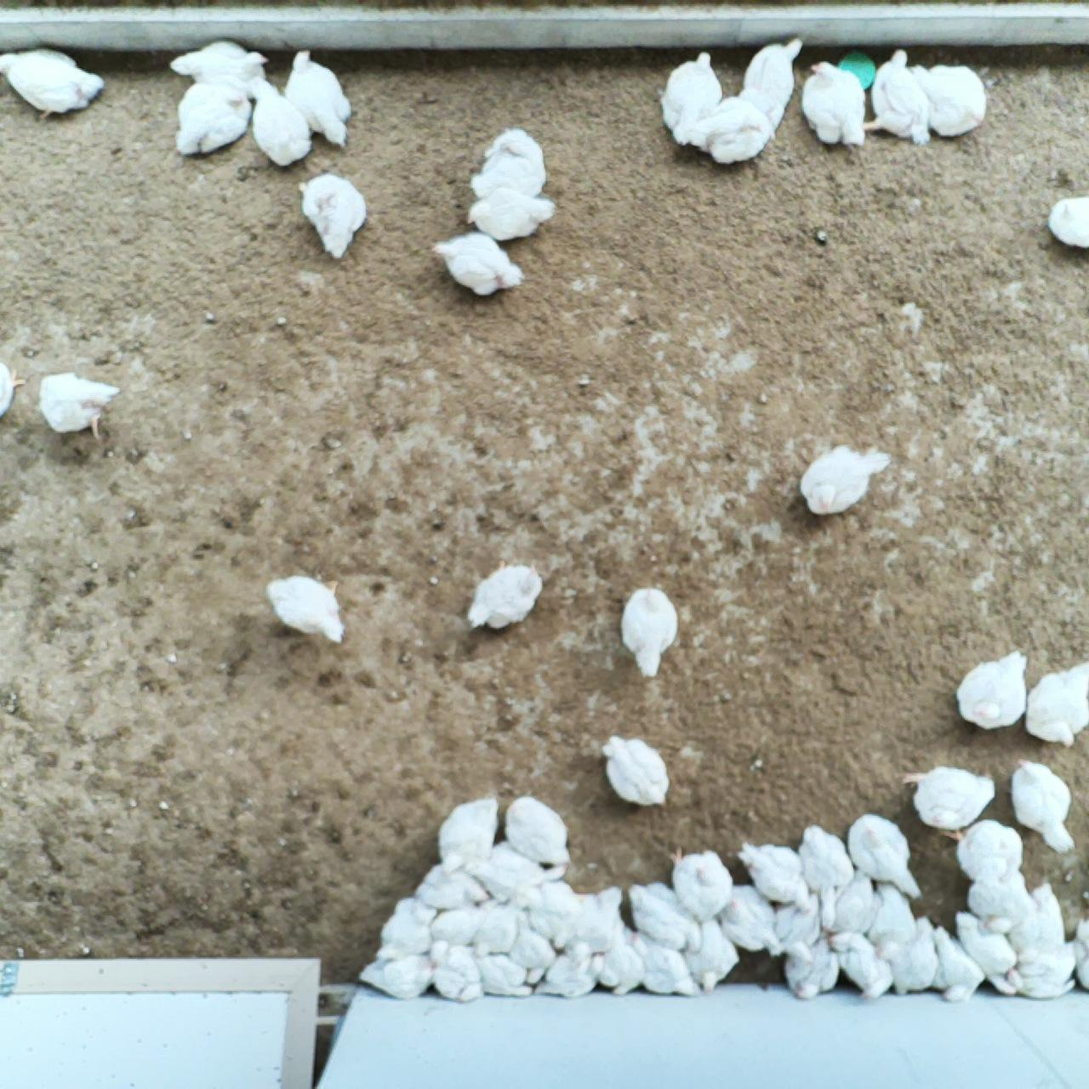chicken: (0, 43, 107, 125), (848, 808, 923, 905), (282, 47, 352, 149), (1008, 755, 1079, 855), (429, 227, 527, 299), (733, 35, 808, 129), (862, 48, 932, 148), (952, 647, 1033, 733), (241, 73, 313, 169), (901, 763, 999, 833), (465, 125, 551, 204), (798, 446, 892, 518), (687, 94, 778, 166), (658, 49, 724, 148), (36, 370, 124, 444), (618, 585, 684, 682), (911, 61, 990, 142), (166, 37, 269, 98), (464, 558, 550, 631), (944, 814, 1026, 890), (297, 170, 367, 259), (955, 909, 1025, 998), (793, 823, 851, 930), (261, 572, 349, 642), (624, 880, 704, 957), (802, 58, 867, 151), (1024, 655, 1089, 748), (731, 837, 809, 914), (476, 839, 567, 905), (599, 732, 672, 814), (176, 78, 251, 157), (434, 795, 504, 877), (465, 185, 559, 244), (625, 932, 706, 1000), (827, 920, 894, 1002), (501, 793, 574, 865), (1001, 940, 1082, 1004), (875, 914, 938, 996), (667, 844, 733, 922), (779, 930, 844, 1005), (929, 925, 989, 1005), (719, 885, 785, 956), (1009, 879, 1066, 961), (965, 866, 1032, 935), (501, 911, 565, 983), (867, 881, 919, 968), (678, 917, 739, 991), (532, 944, 609, 1001), (563, 882, 626, 951), (373, 895, 438, 961), (821, 865, 878, 940), (359, 948, 438, 1002), (529, 878, 582, 952), (772, 887, 824, 962), (589, 932, 644, 997), (429, 935, 483, 1000), (468, 950, 533, 999), (471, 901, 524, 958), (428, 903, 491, 950), (417, 866, 487, 907), (1046, 191, 1089, 251), (0, 356, 25, 426), (1070, 910, 1089, 992)
